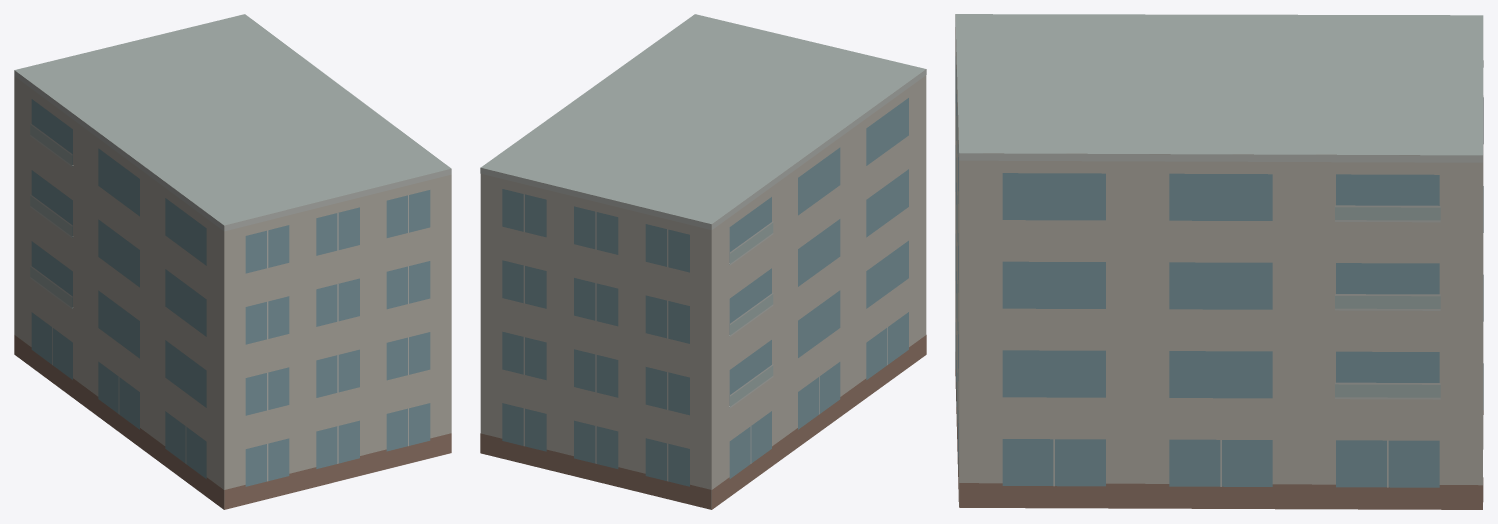
File: survey-upis-32894077.glb
3 renders of one model, left to right at view 1: azimuth 30°, elevation 25°; view 2: azimuth 150°, elevation 25°; view 3: azimuth 270°, elevation 25°, orthographic. The views are drawn at different scales.
Visible parts, largest first — view 1: survey-upis-32894077.tmp; view 2: survey-upis-32894077.tmp; view 3: survey-upis-32894077.tmp.
Boxes of the visible parts, bbox=[...] form: survey-upis-32894077.tmp: bbox=[14, 14, 451, 509]; survey-upis-32894077.tmp: bbox=[480, 14, 926, 509]; survey-upis-32894077.tmp: bbox=[955, 14, 1483, 509].
Size of the model in its own units: 10.04 by 11.7 by 15.81.
